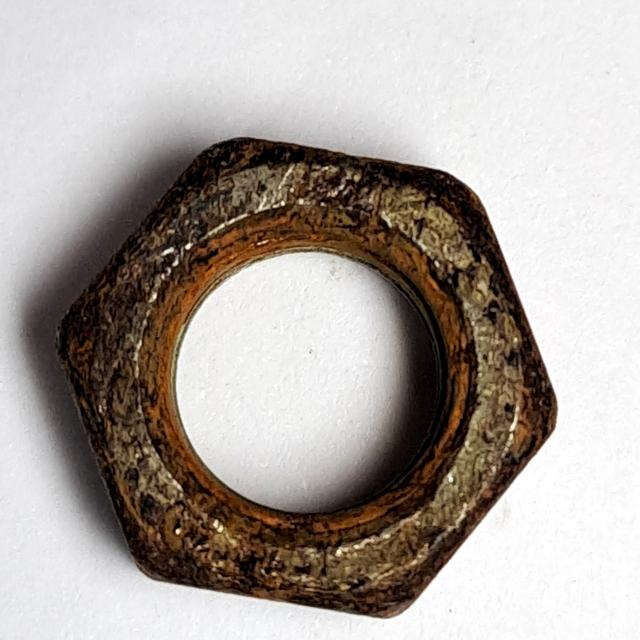Rust: (42, 119, 575, 629)
